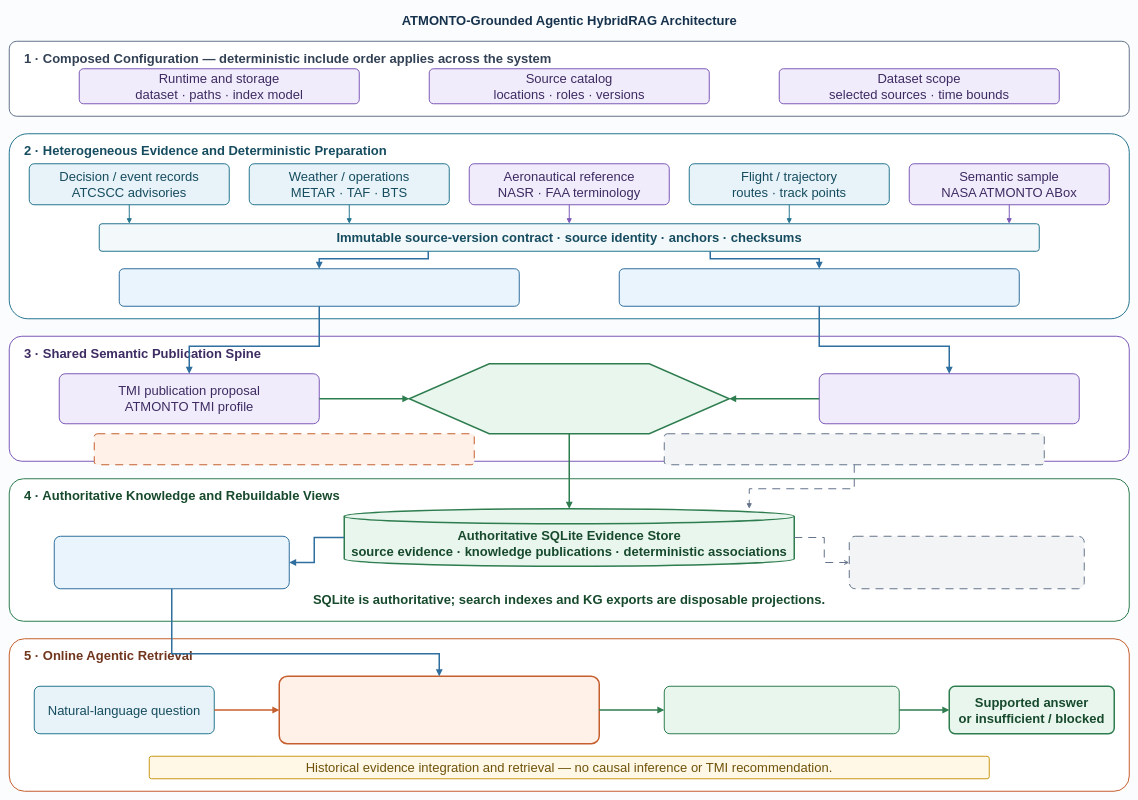
Image size: 1138x800. Some labels were removed from this diagram. The shapes that lost their labels are listed below. From the top down, each one's centre as x and y in pixels, then its label:
(319,287): TMI evidence pipeline parse · authority · context · resolve ambiguity
(819,287): Flight–Airspace pipeline profiles · routes · tracks · fact compilation
(569,398): Formal Publication Kernel schema · evidence · provenance
(949,398): Flight publication proposal ATMONTO Flight / NAS profiles
(284,449): Semantic Resolution Agent bounded proposal or abstention
(854,449): Post-publication association materializer participant-root gated · non-causal
(172,562): Runtime read views exact + graph · FTS5 · Chroma
(966,562): Offline all-root KG exports RDF / Turtle · Neo4j
(439,709): Bounded LLM Query Agent family route → selected tools → evidence loop
(782,710): Statement support validation evidence handles · claim boundaries
